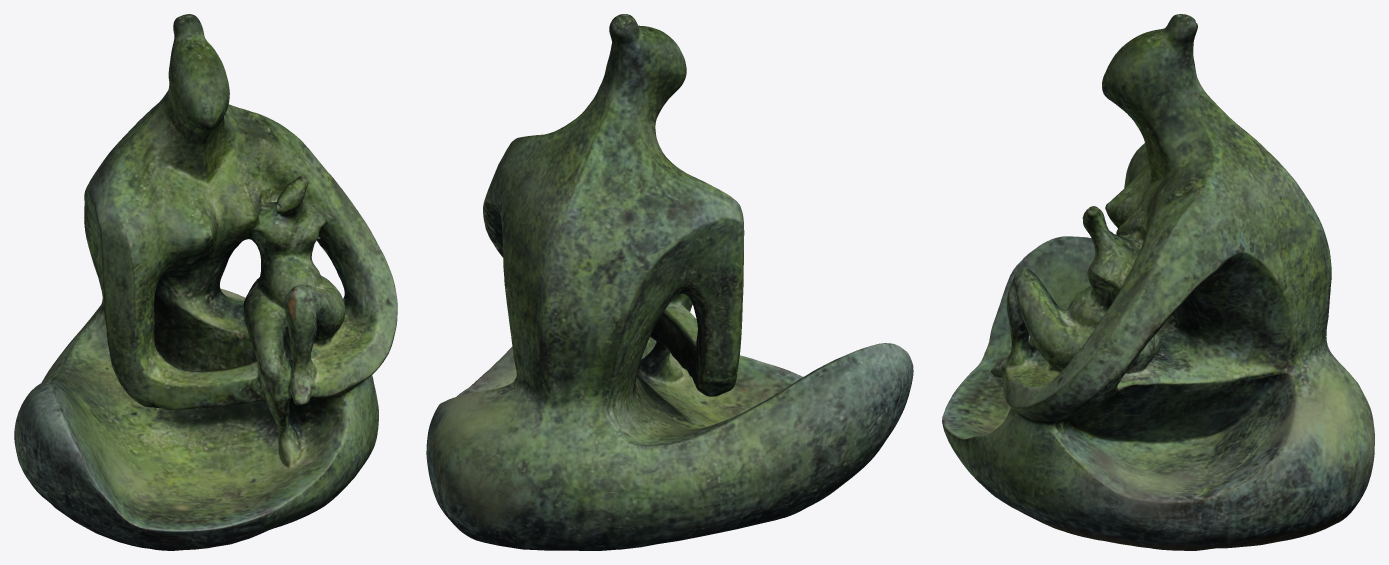
The model's file is gaurab-das-mother-and-child-2.glb.
The picture shows the model from 3 angles, left to right: view 1: azimuth 30°, elevation 25°; view 2: azimuth 150°, elevation 25°; view 3: azimuth 270°, elevation 25°; orthographic projection. The views are drawn at different scales.
Parts seen in each view (by area): view 1: Mesh; view 2: Mesh; view 3: Mesh.
Boxes of the visible parts, x1,y1,x2,y2 form: Mesh: (14, 14, 397, 550); Mesh: (426, 14, 913, 550); Mesh: (942, 14, 1374, 550).
Size of the model in its own units: 26.68 by 31.33 by 26.32.
1 material, 1 textured.
